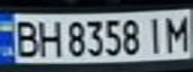3: (84, 17, 106, 59)
5: (103, 17, 124, 57)
8: (63, 17, 87, 57), (121, 16, 145, 56)
B: (9, 17, 42, 59)
H: (33, 17, 63, 59)
I: (142, 15, 169, 55)
M: (160, 11, 193, 53)
